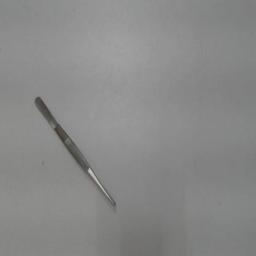Gillies Toothed Dissector: (30, 84, 122, 214)
